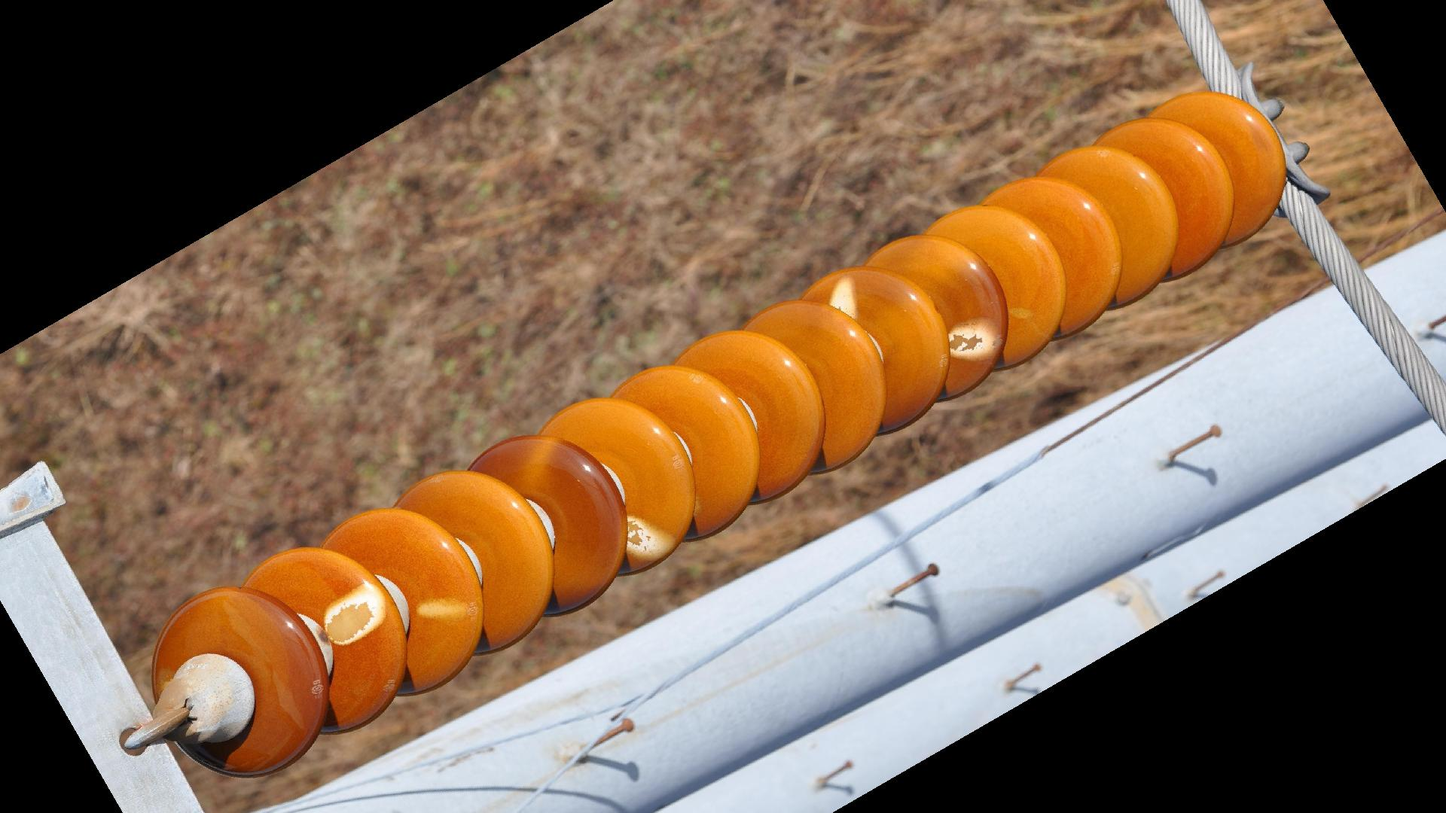insulator: (147, 85, 1293, 782)
insulator_flashover: (319, 579, 388, 650), (623, 513, 679, 571), (946, 315, 1006, 363), (413, 594, 476, 627), (824, 272, 863, 322)
